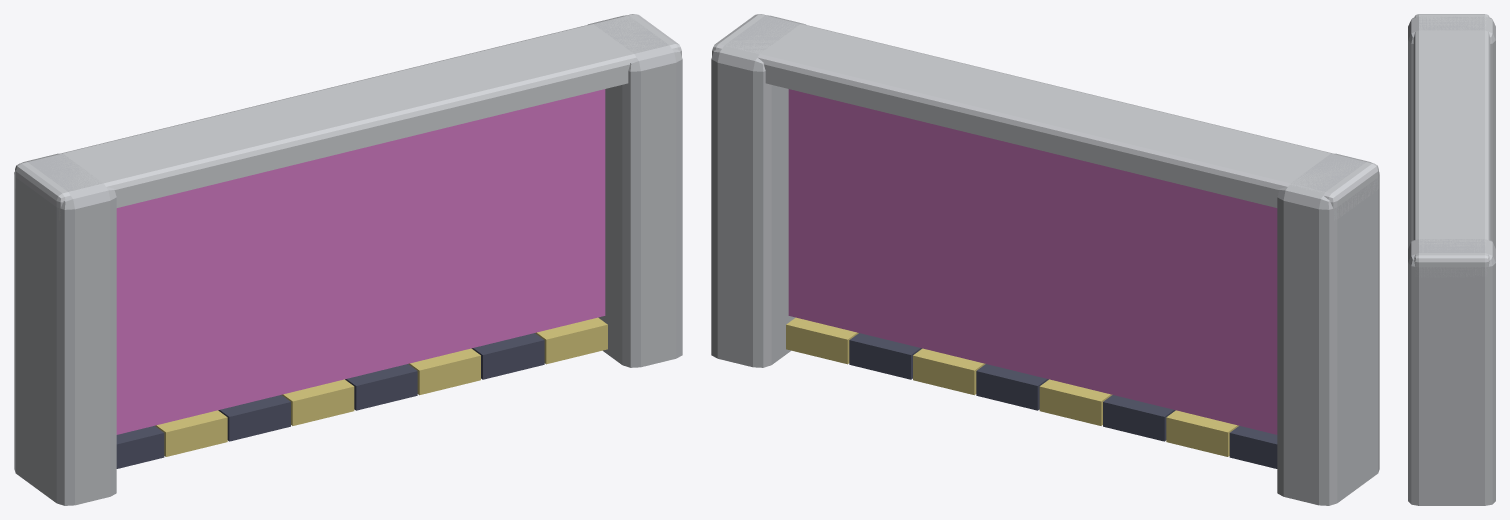
File: rn2-orbital-barrier.glb
The picture shows the model from 3 angles, left to right: view 1: azimuth 30°, elevation 25°; view 2: azimuth 150°, elevation 25°; view 3: azimuth 270°, elevation 25°; orthographic projection. The views are drawn at different scales.
Visible parts, largest first — view 1: rn2_orbital_barrier_body, rn2_orbital_barrier_glow; view 2: rn2_orbital_barrier_body, rn2_orbital_barrier_glow; view 3: rn2_orbital_barrier_body.
Part boxes in pixels (box(x1,y1,x2,y2)): rn2_orbital_barrier_body: box(14, 14, 682, 505); rn2_orbital_barrier_glow: box(116, 89, 605, 434); rn2_orbital_barrier_body: box(711, 14, 1379, 505); rn2_orbital_barrier_glow: box(788, 89, 1277, 434); rn2_orbital_barrier_body: box(1408, 14, 1495, 505).
Bounding box in the file's own units: 2.12 × 1 × 0.32.
